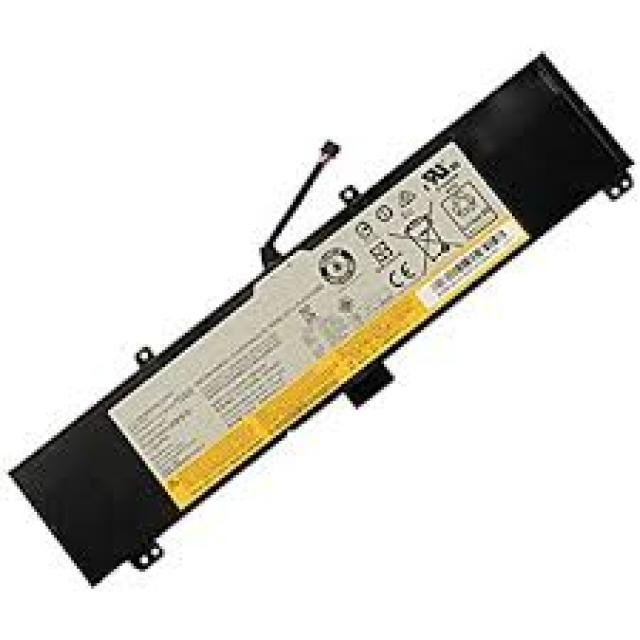battery: (5, 56, 640, 584)
